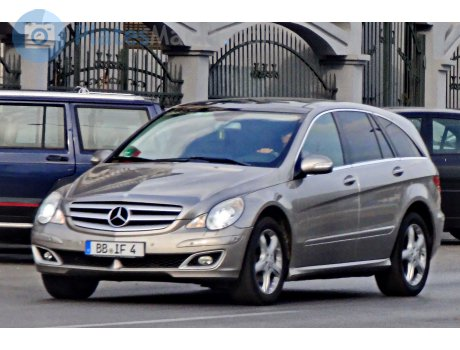License Plates: (93, 238, 140, 253)
